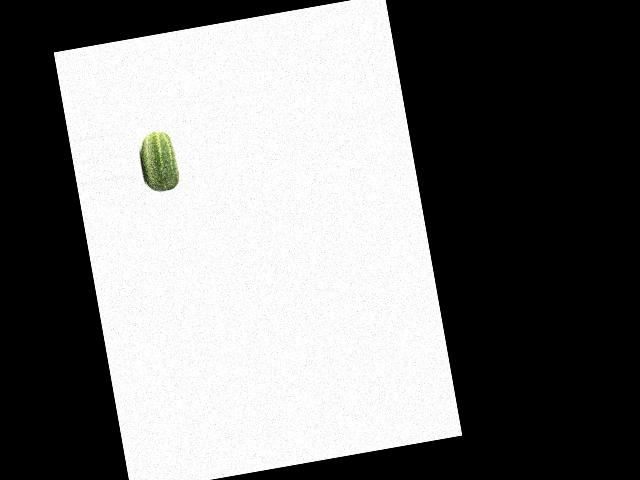cucumber: (136, 129, 181, 194)
